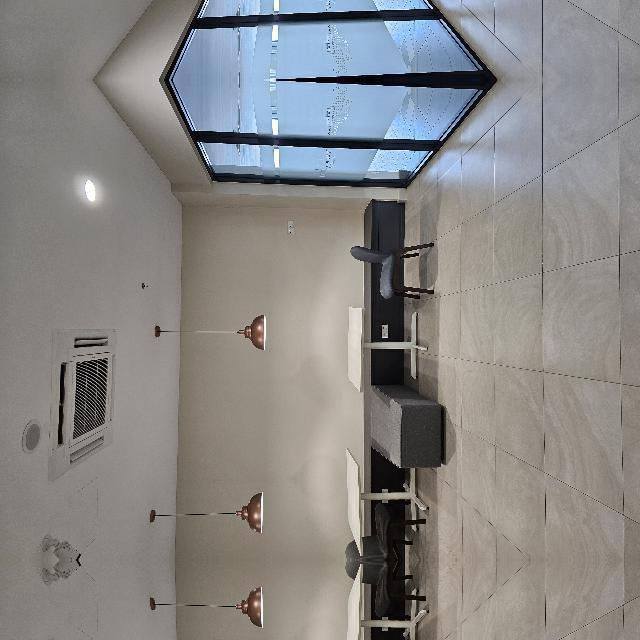obstacle: (0, 418, 324, 516), (0, 603, 324, 640)
